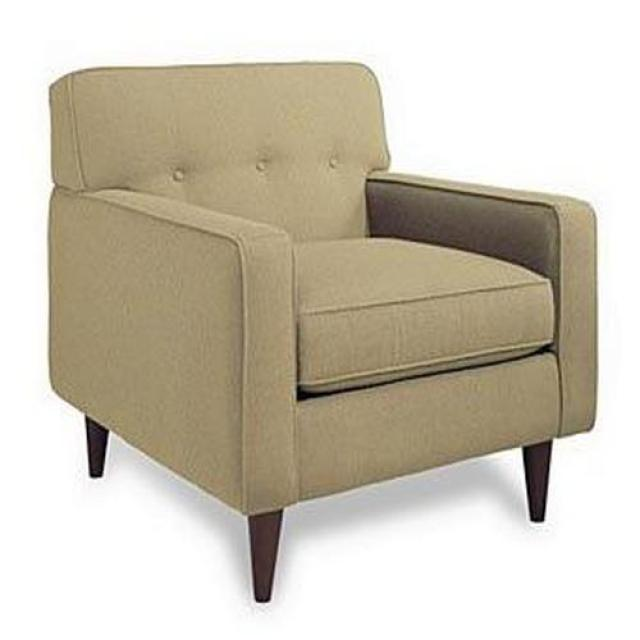sofa: (46, 60, 600, 607)
